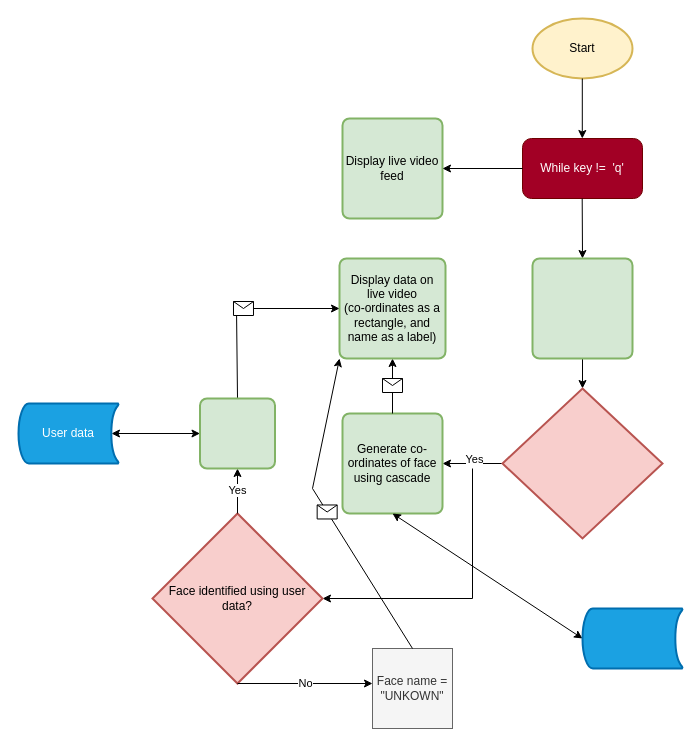
The diagram is 700 pixels wide and 746 high, and some of its shapes have lost their labels. The shapes that lost their labels are listed below. From the top down, each one's centre as x and y in pixels, then its label:
At point 582,308: "Convert duplicate feed to grayscale".
At point 237,433: "Retrieve face name".
At point 582,463: "Face detected using cascade?".
At point 632,638: "Frontal face cascade".
